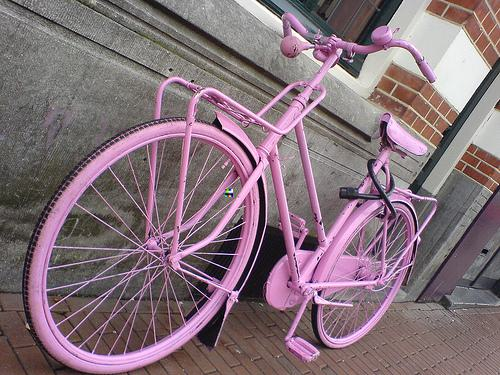car: (20, 11, 439, 375)
